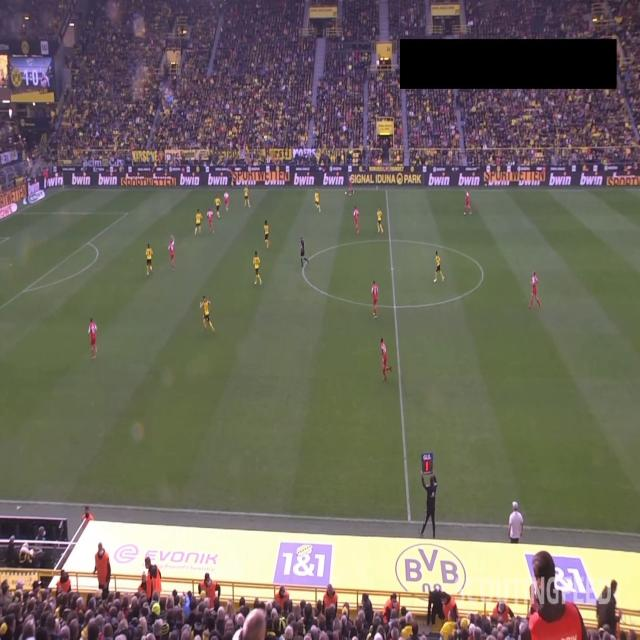ball: (344, 191, 348, 195)
